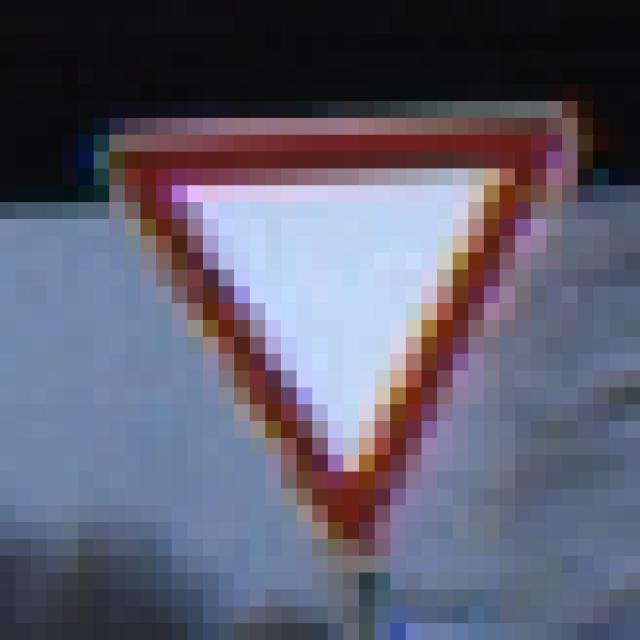Give Way: (79, 85, 563, 557)
